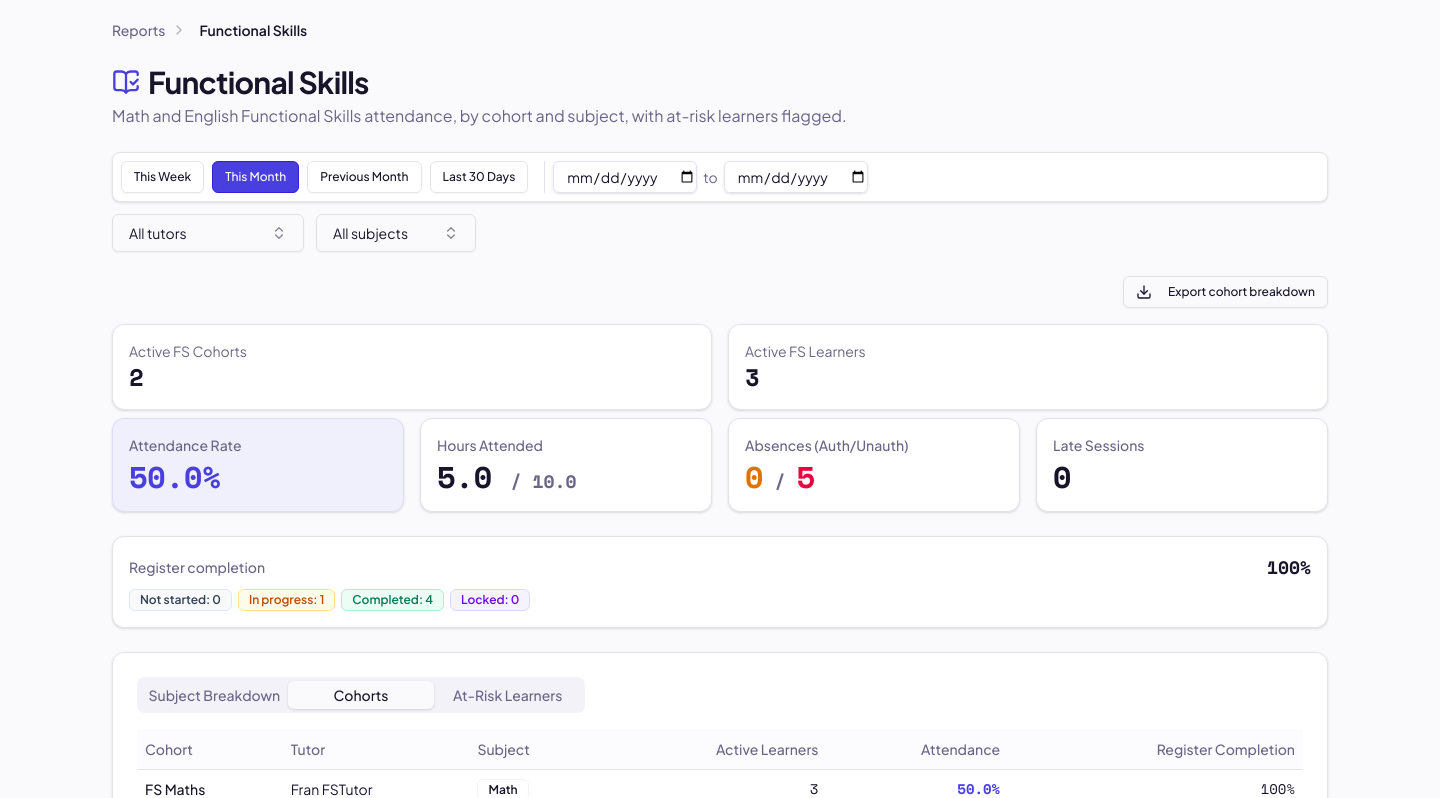
Scenario: FunctionalSkillsReportPage › shows the at-risk learners tab
Click the tab "At-Risk Learners" at (508, 695), box [434,681,581,709]
(page scrolled)
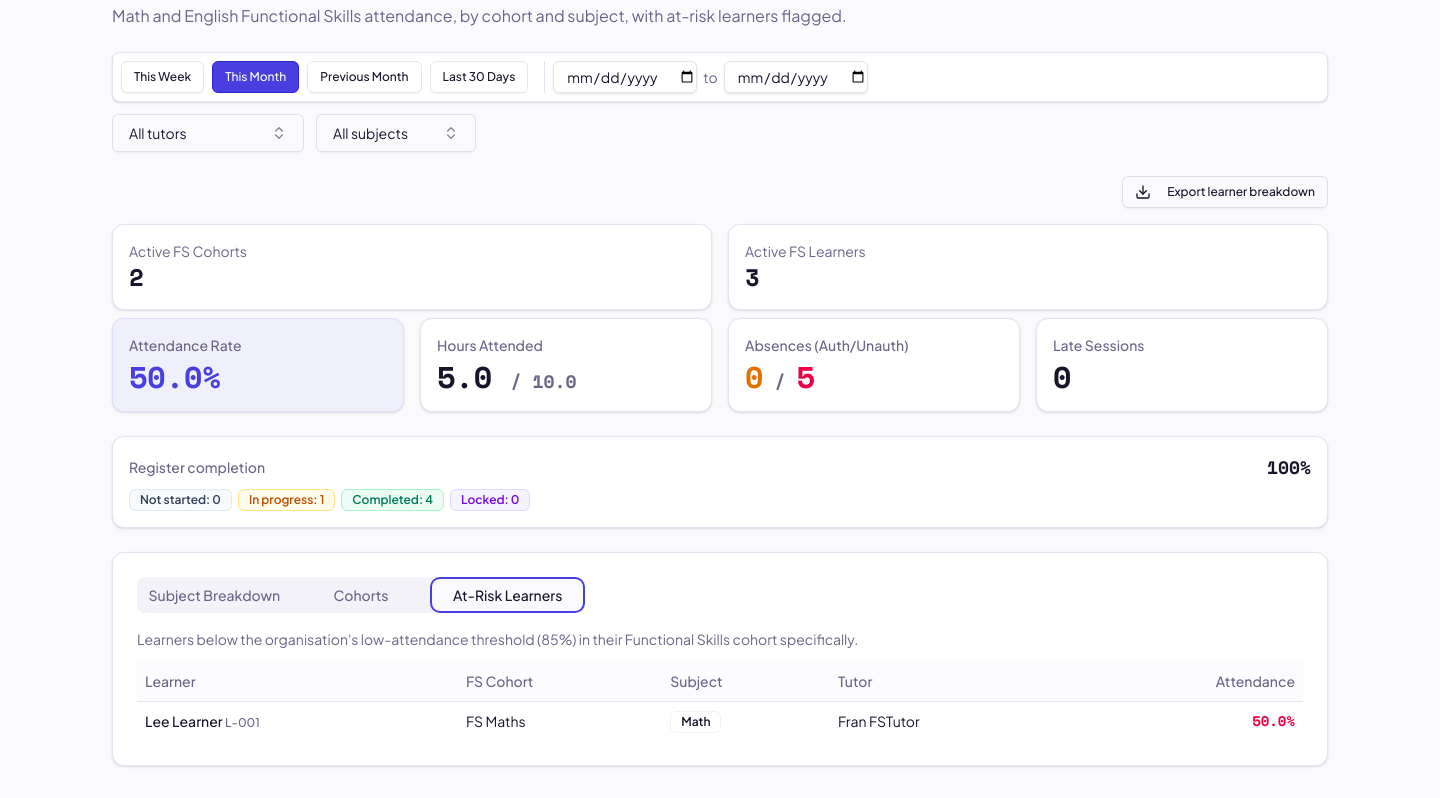
Now the text "Lee Learner" is shown, box [145,712,223,730]
